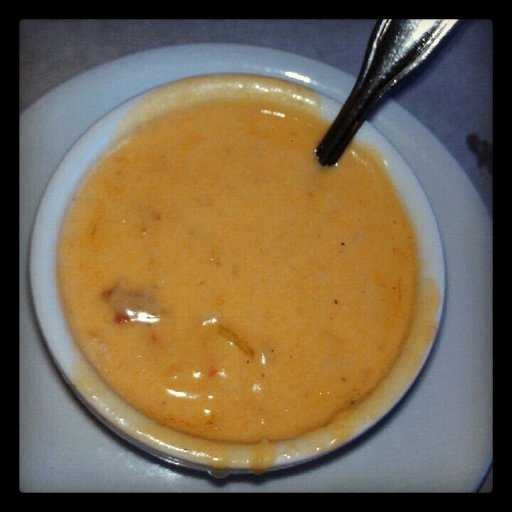soup: (30, 72, 433, 464)
